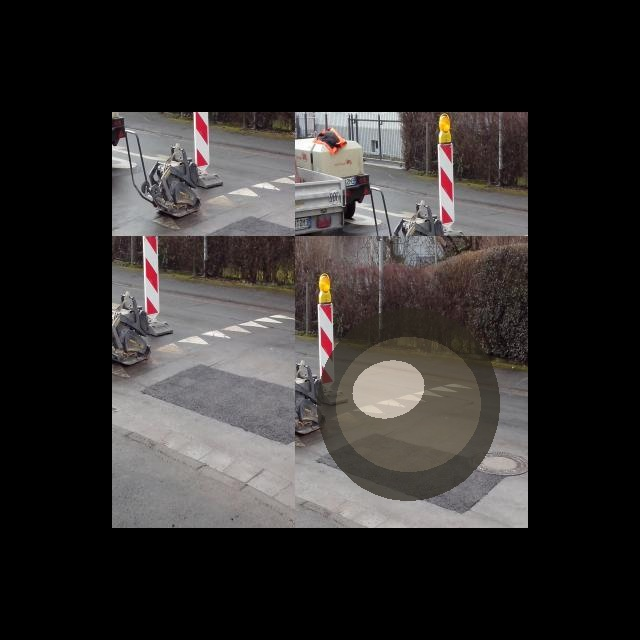waterlogging: (307, 298, 509, 510)
